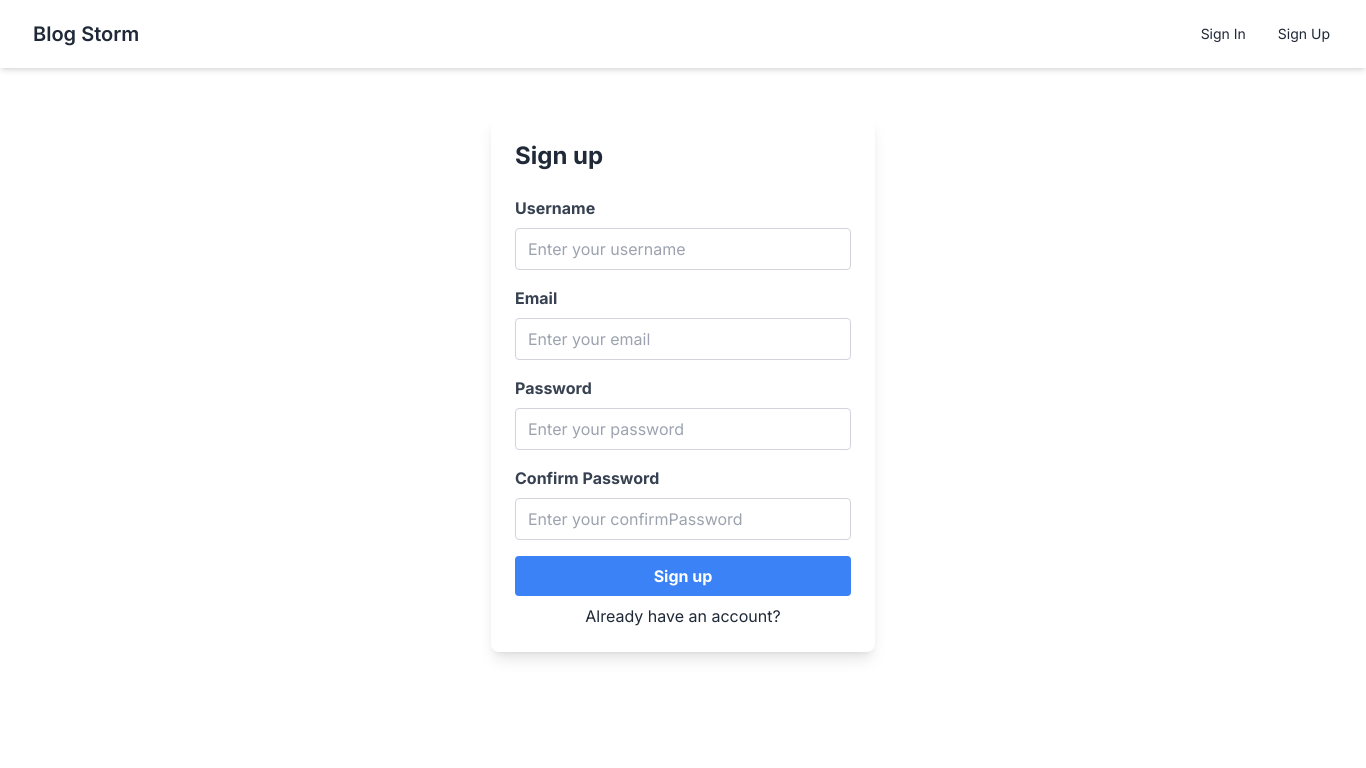
Testing application › Signup page form should detect the error
Step 1. Type "muktadir_shakib" into the field with id "username" → (683, 249), box [515,228,851,270]
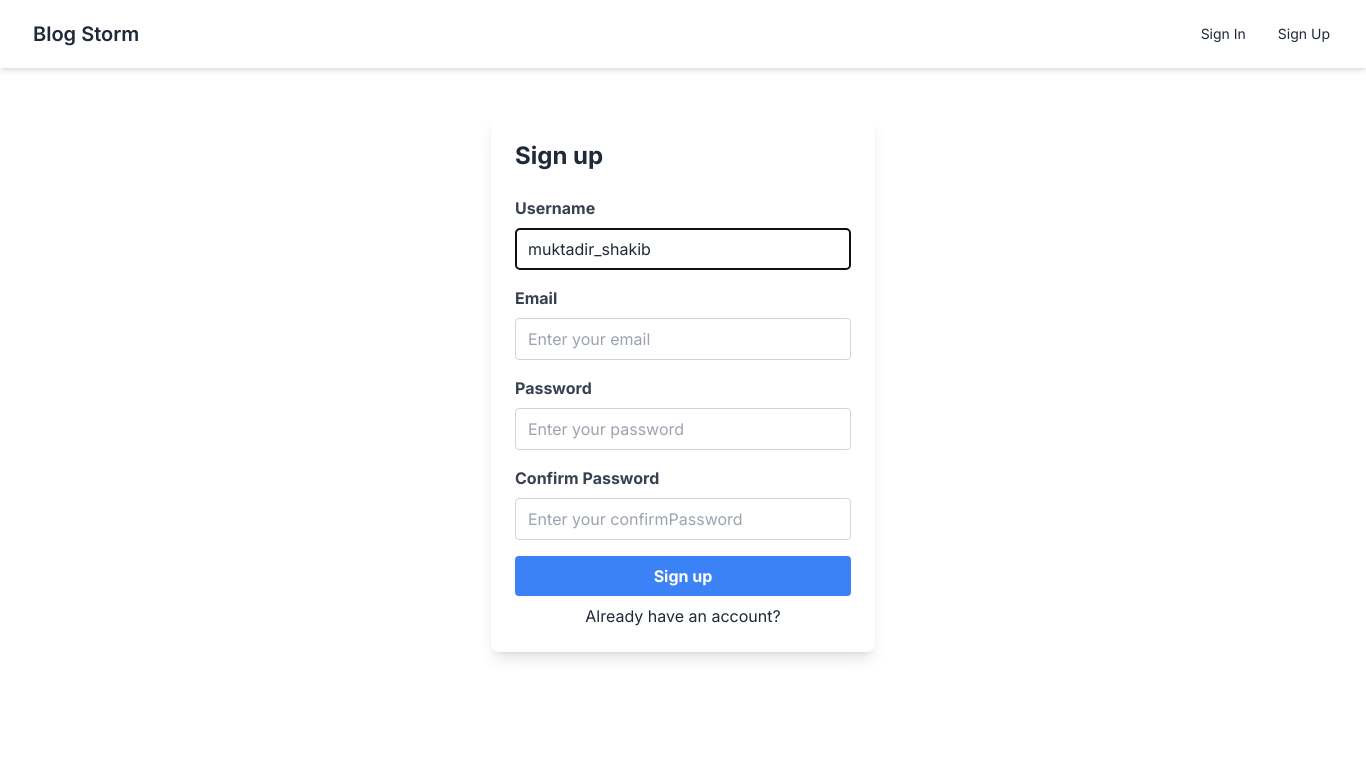
Step 2. Type "shakib@gmail.com" into the field with id "email" → (683, 339), box [515,318,851,360]
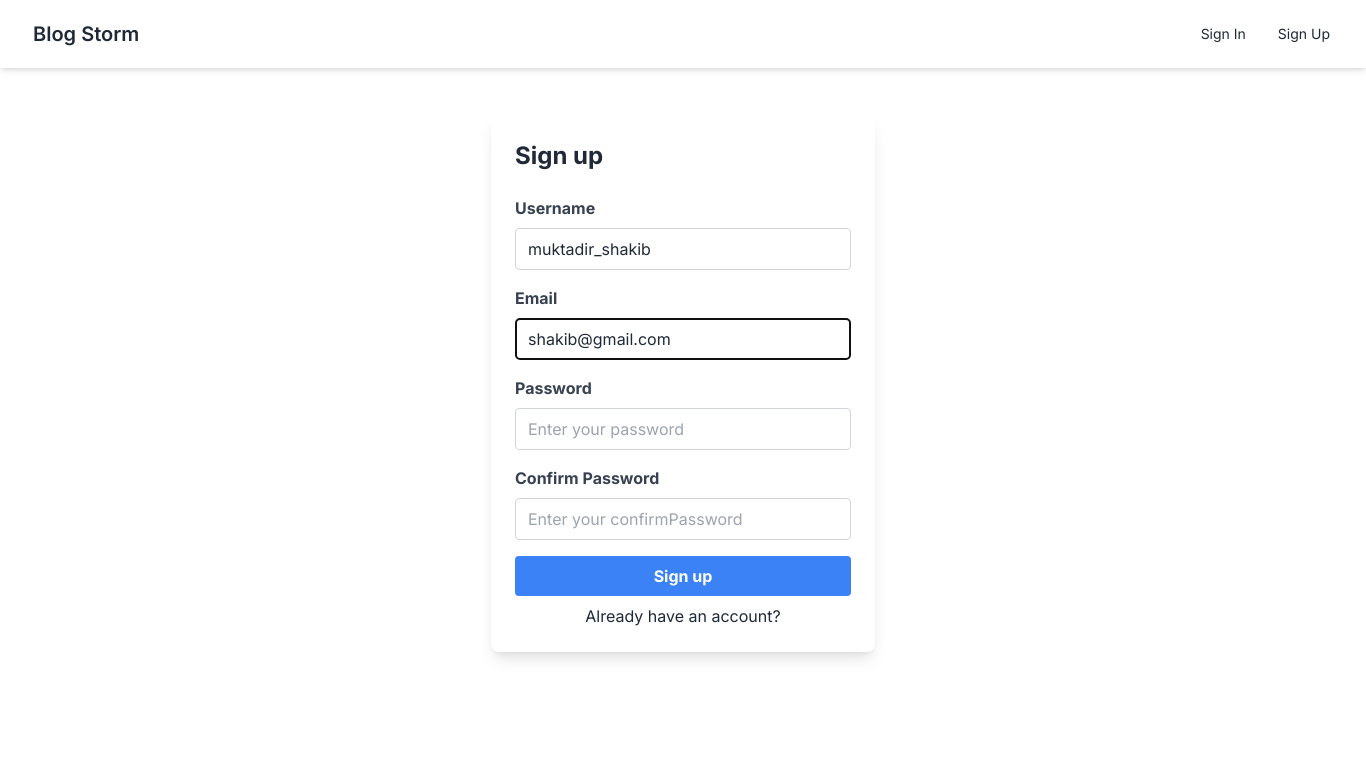
Step 3. Type "t" into the password field labelled "Password" → (683, 429), box [515,408,851,450]
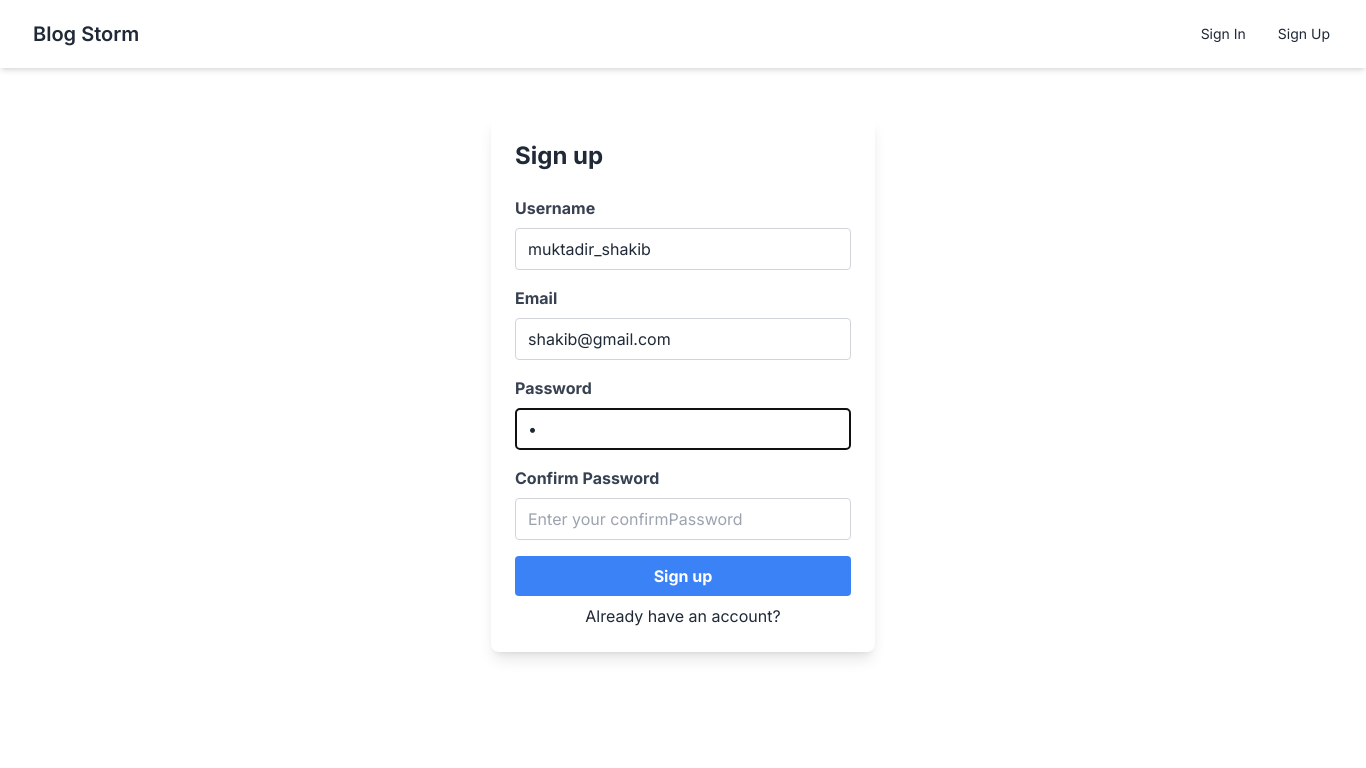
Step 4. Type "muktadir_shakib" into the password field with id "confirmPassword" → (683, 519), box [515,498,851,540]
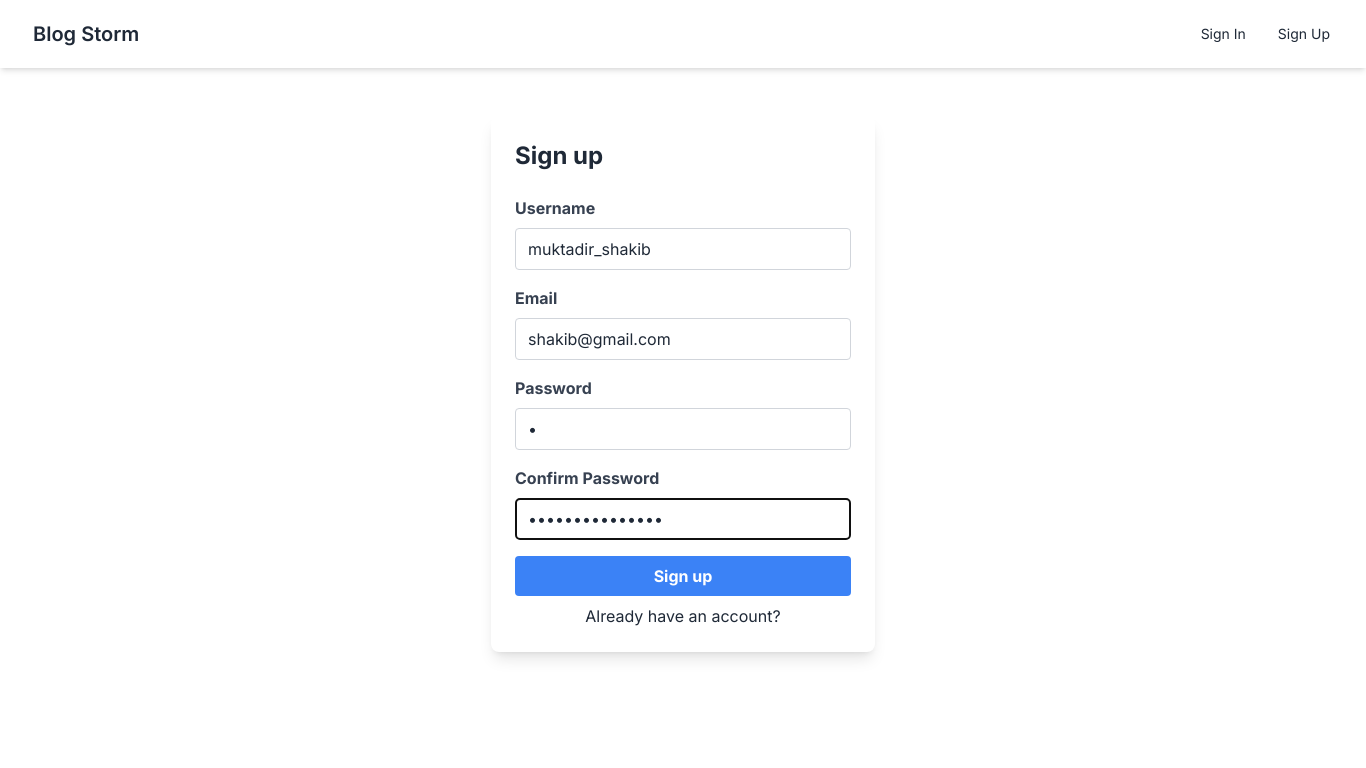
Step 5. Click the button "Sign up" → (683, 576), box [515,556,851,596]
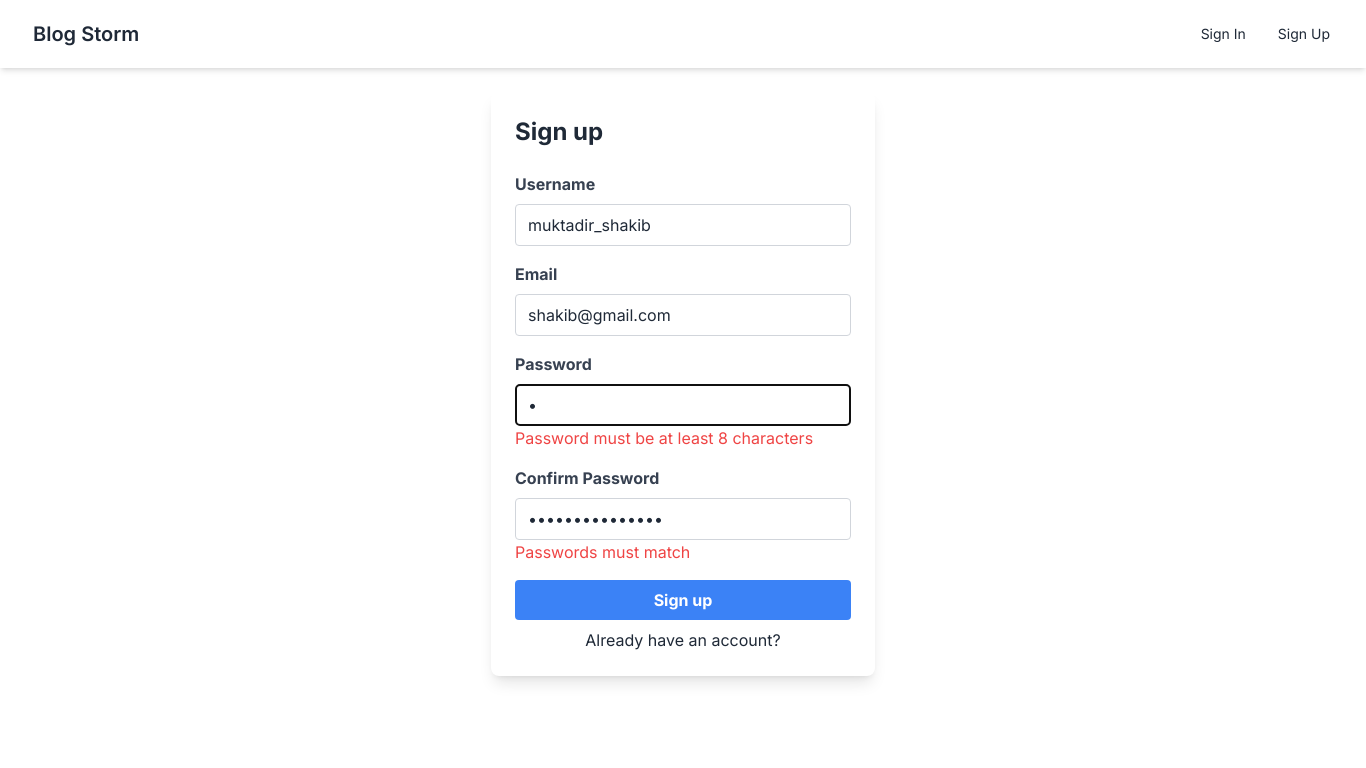
Expected: the link "Already have an account?" is shown, [585,630,781,650]
Expected: the text "Passwords must match" is shown, [515,542,690,562]
